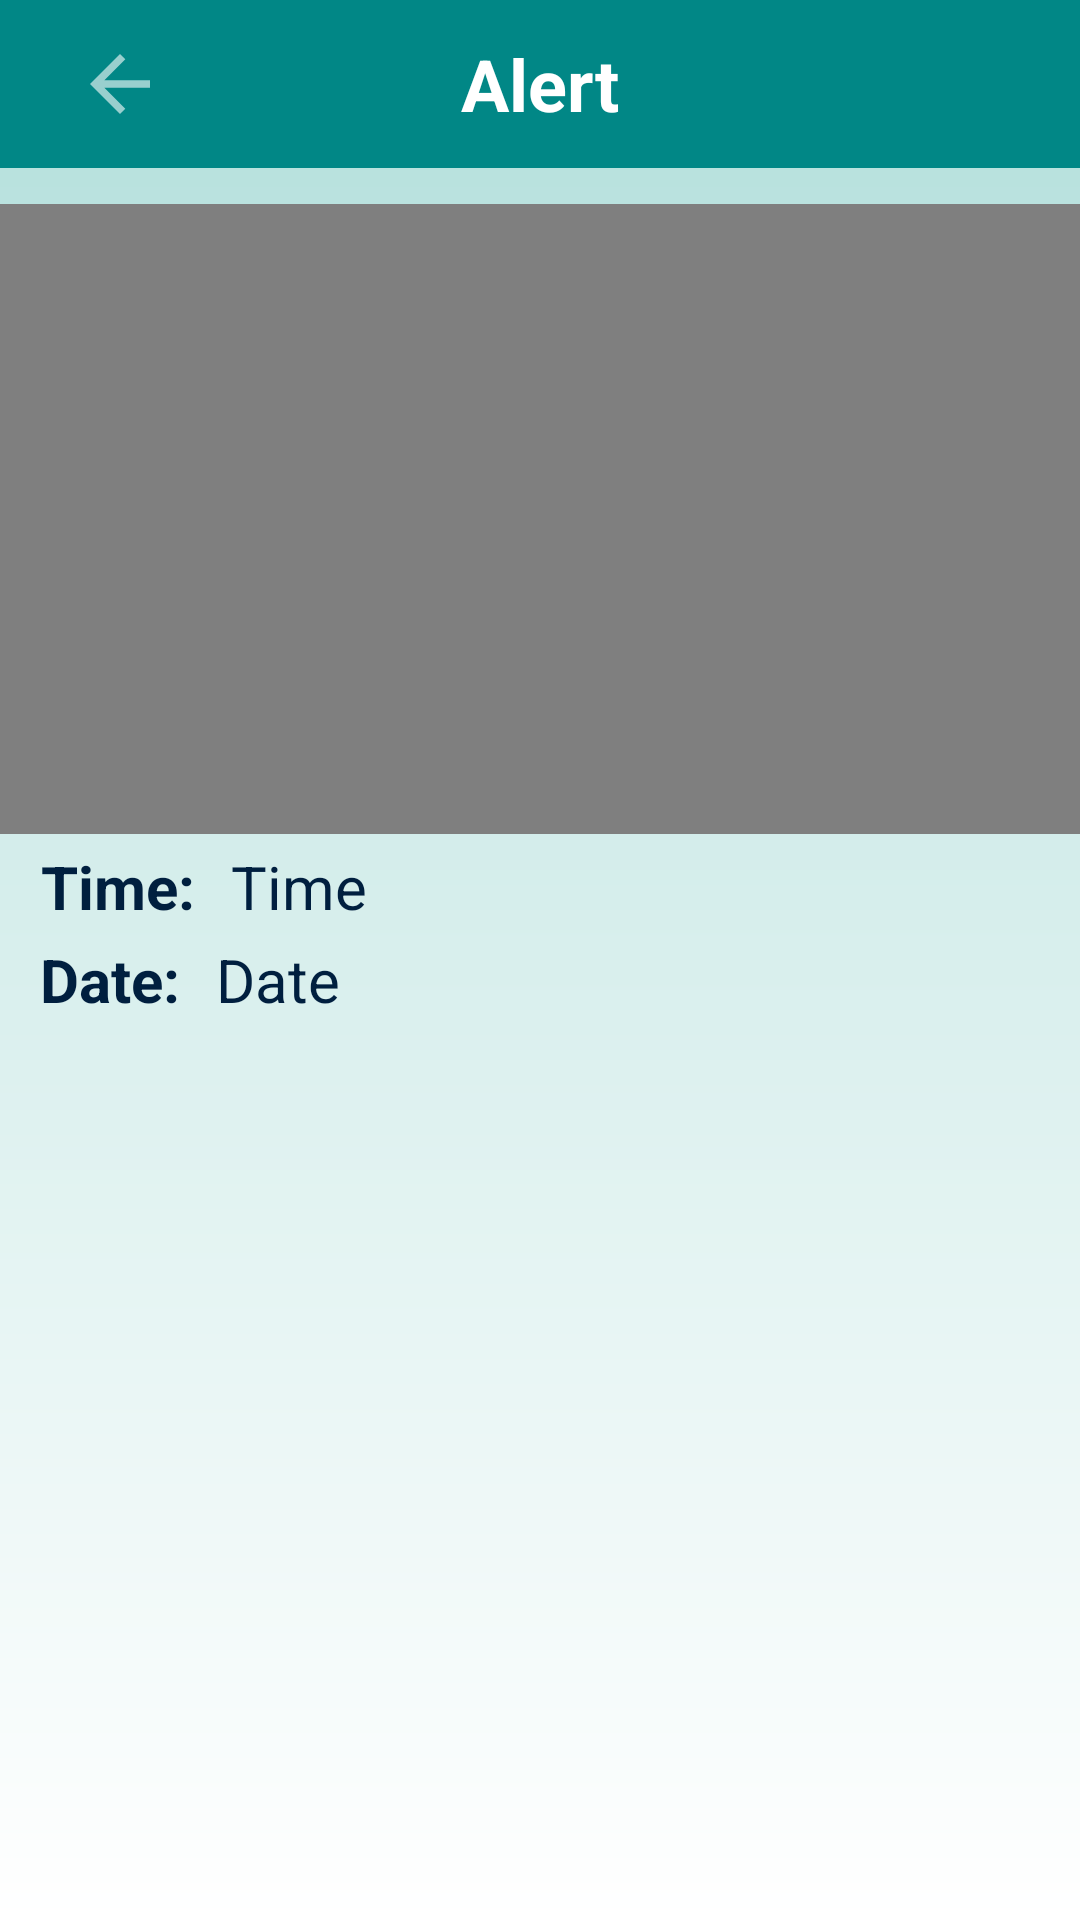

Icons on this 1080px x 1920px Android screen, each with the point to tap as [x,y]:
Back Button: [120,84]
